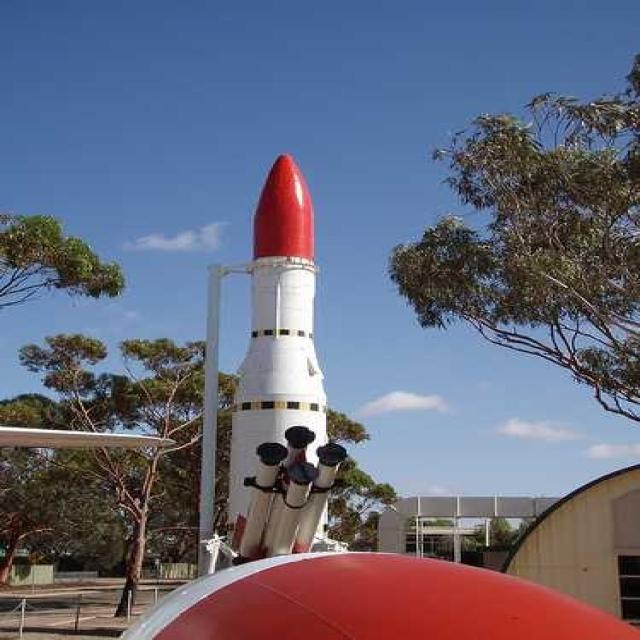missile: (227, 150, 341, 532)
